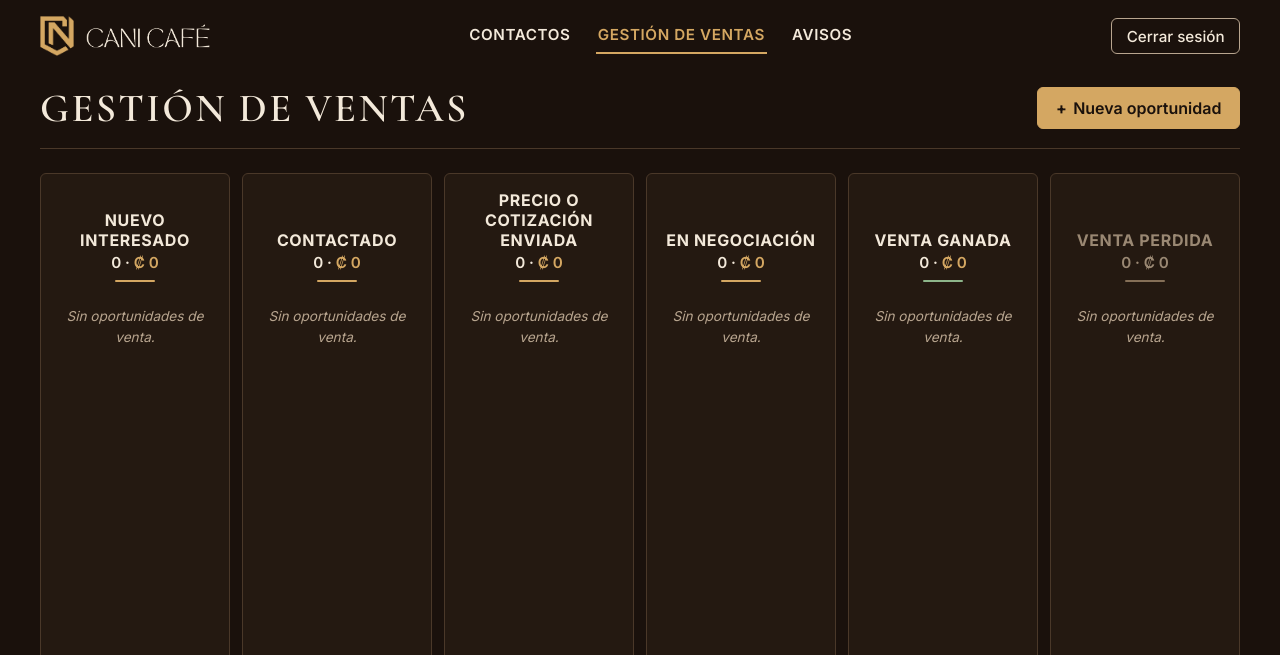
HU-301 Crear una oportunidad de venta › la pantalla "Gestión de ventas" tiene el botón "+ Nueva oportunidad", que abre el formulario "Nueva oportunidad"
This screenshot has width=1280, height=655.
Click the button "+Nueva oportunidad" at (1139, 108), box [1037, 87, 1240, 129]
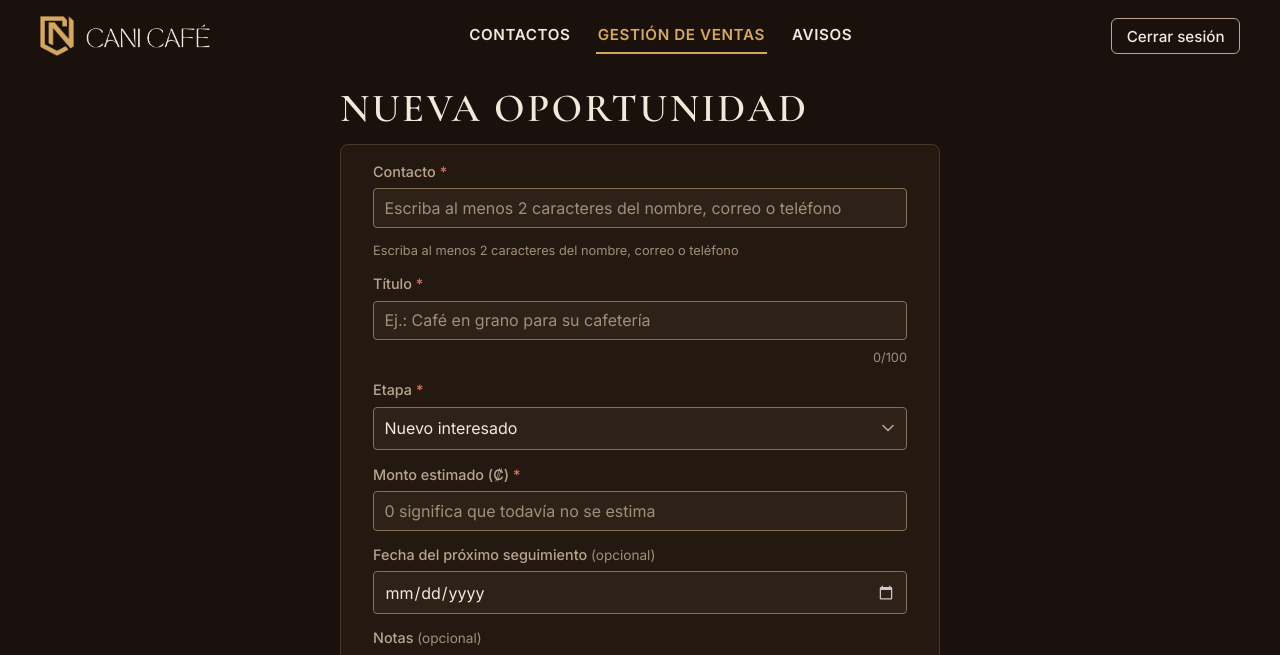
Result: the heading "Nueva oportunidad" is shown at [340, 84, 808, 132]
